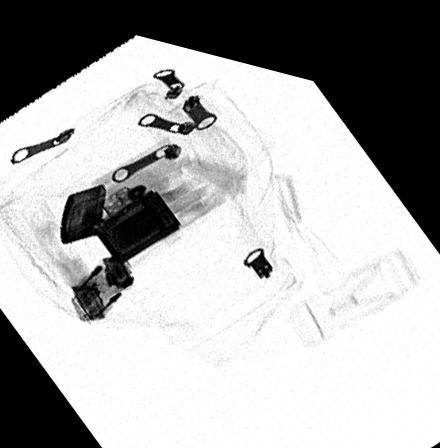Lighter: (57, 174, 179, 259)
